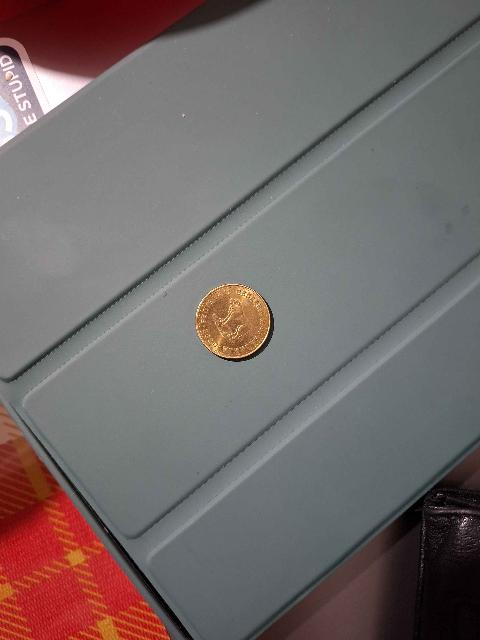1_coin: (196, 284, 270, 359)
